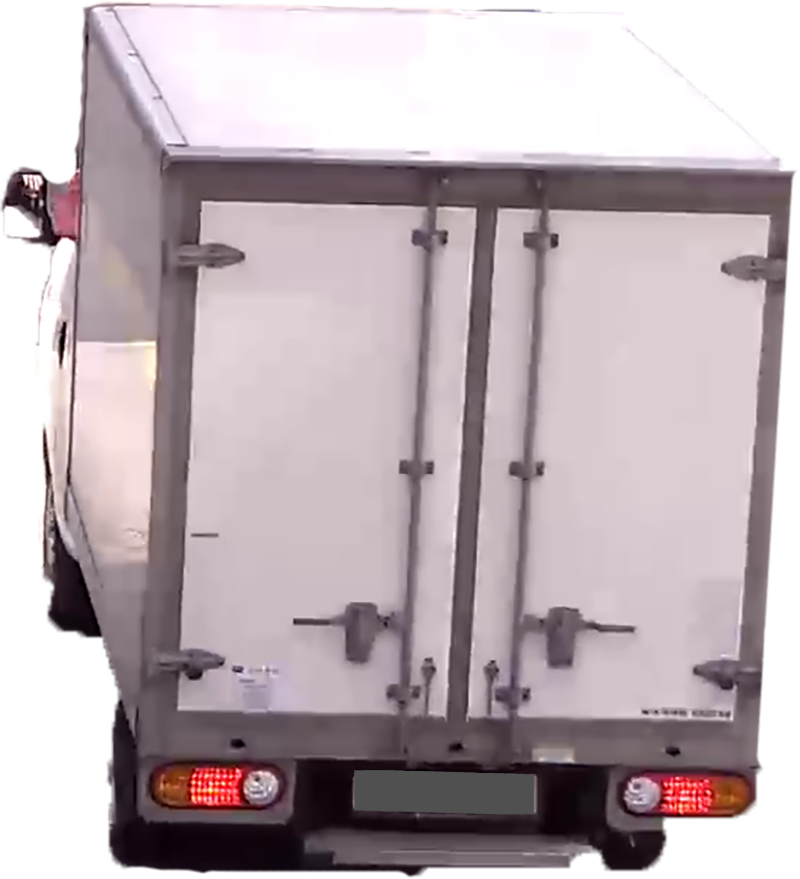P1_: (539, 773, 554, 784)
bbox: (349, 764, 539, 818)
